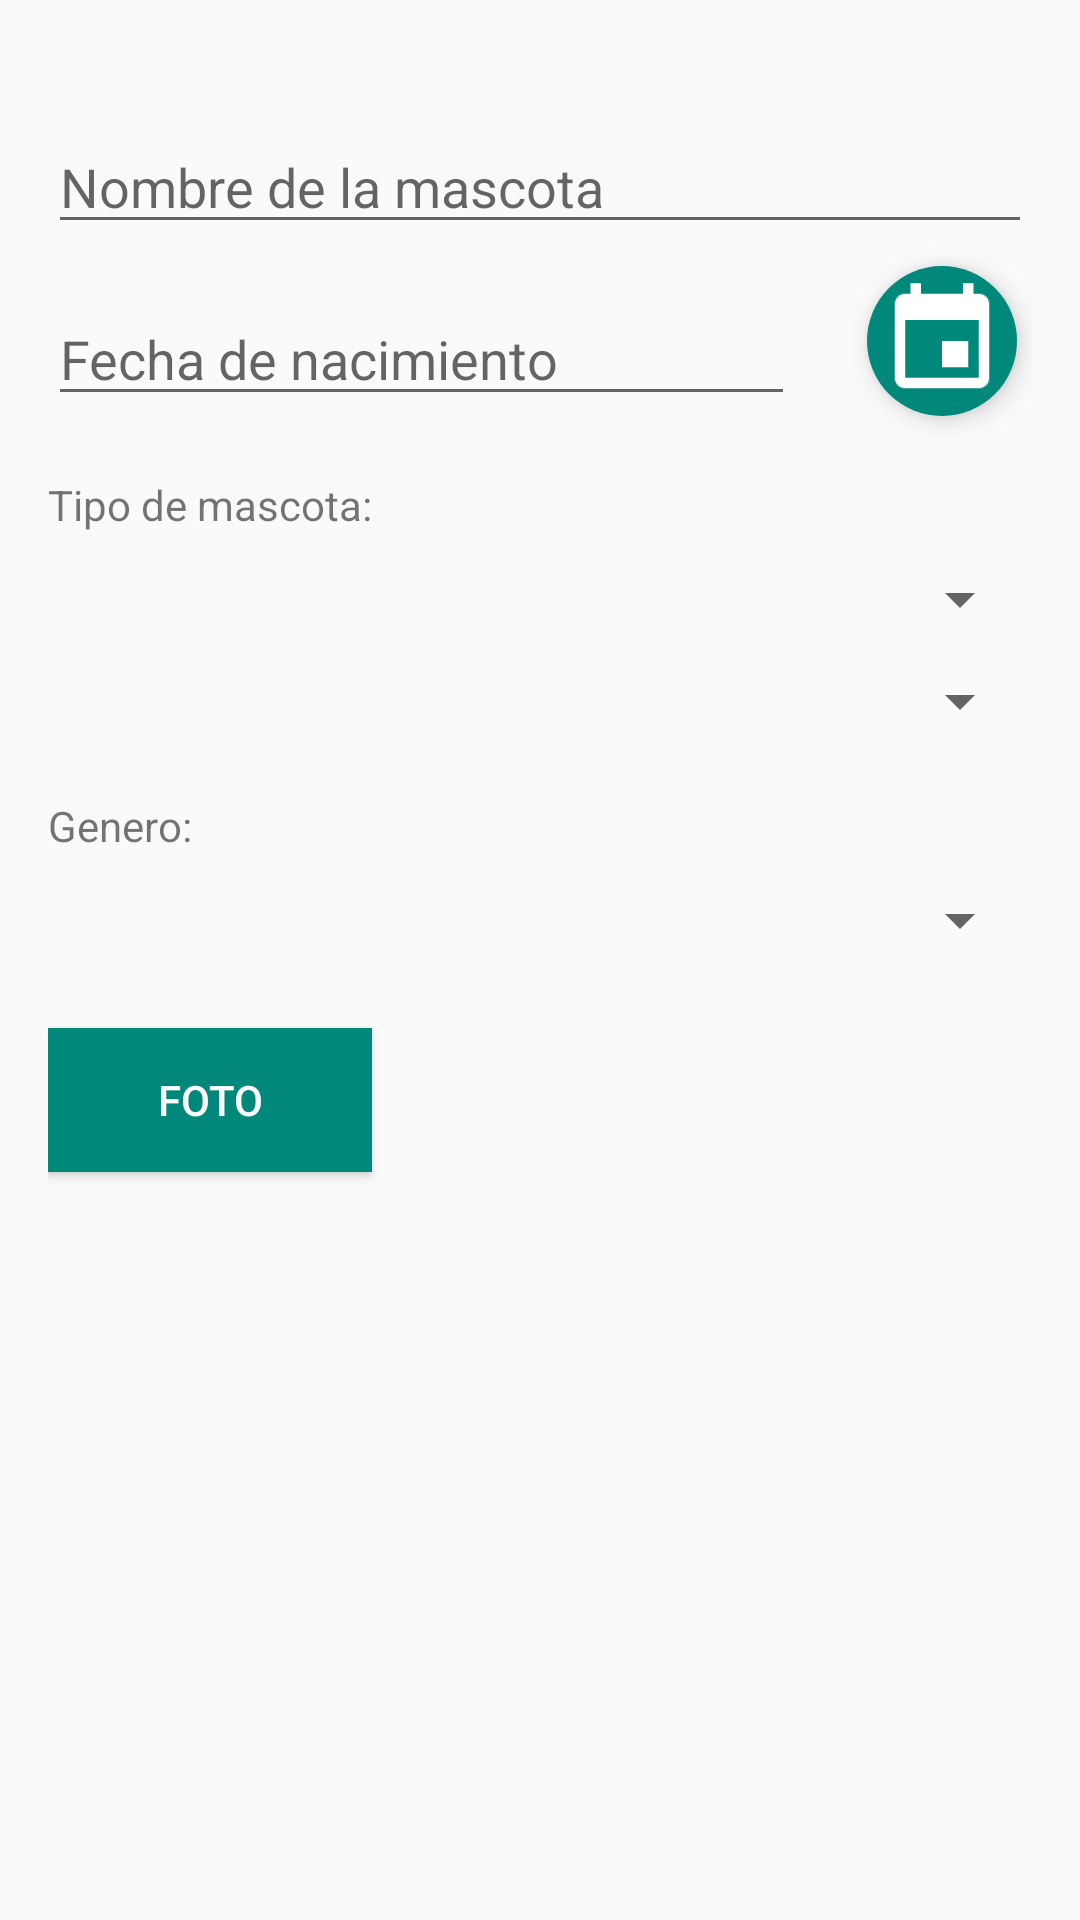

Where to tap for icons on this 1080 × 1920 app screen, as point (x, y):
calendar: point (942, 341)
